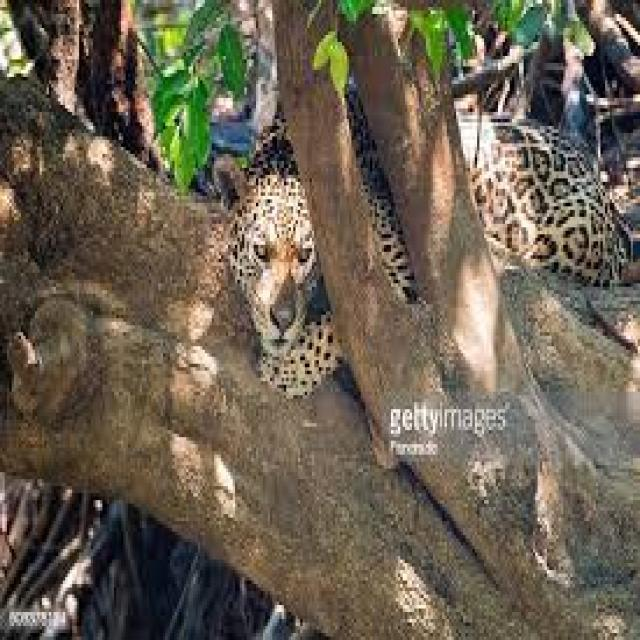Jaguar: (232, 143, 316, 357)
